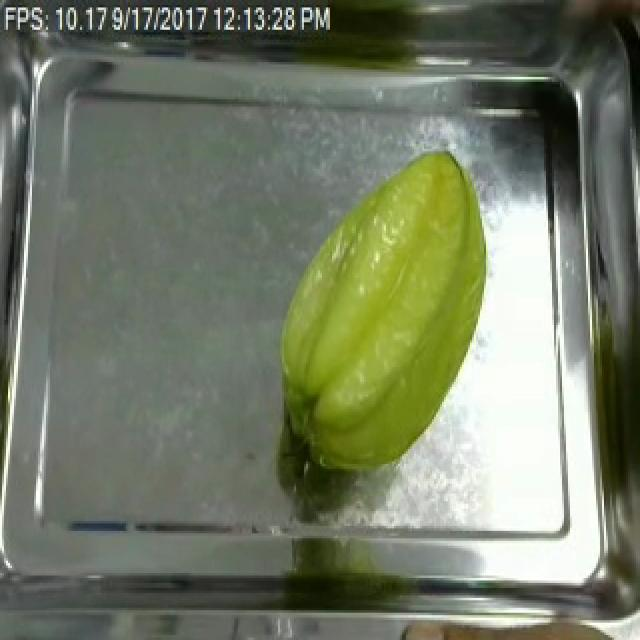fruit: (266, 142, 498, 482)
